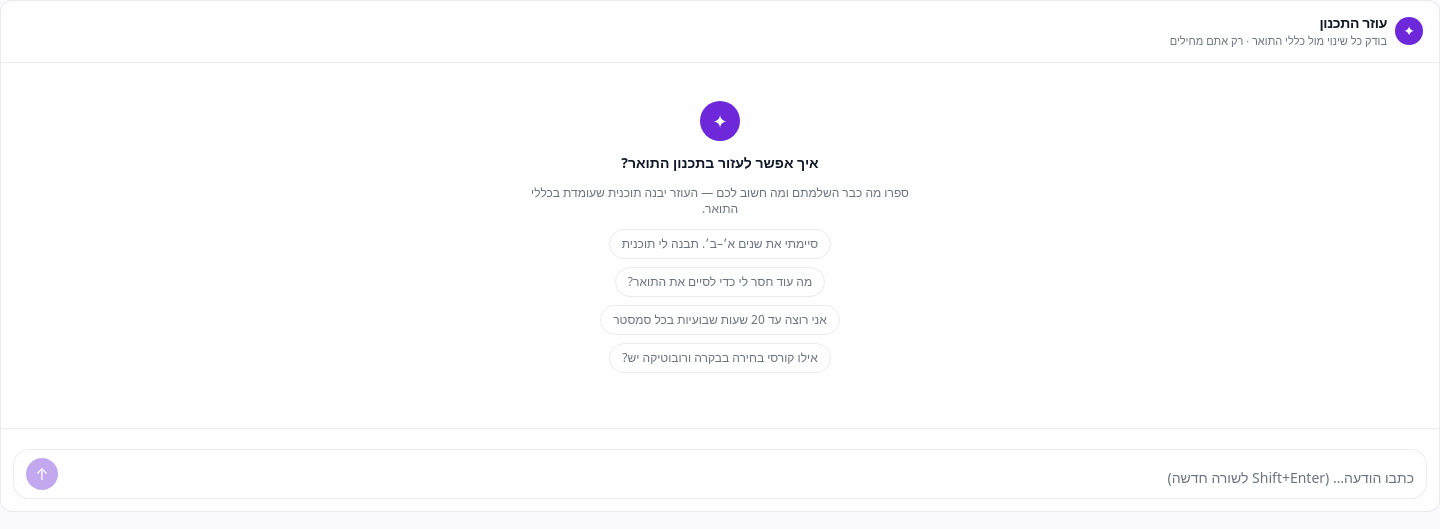
renders known course ids in assistant replies as Hebrew names with the id retained
Type "תציע לי סמסטר" into the text box named "הודעה לעוזר האקדמי" at (740, 478), box [66,466,1414,490]
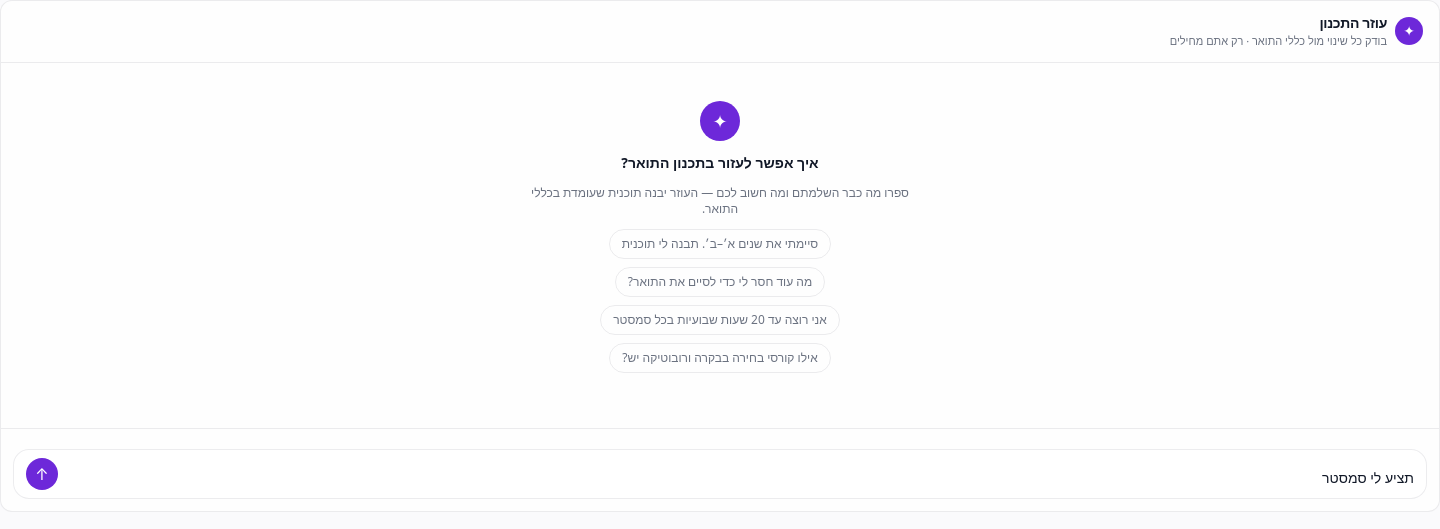
Click the button named "שלח לעוזר" at (42, 474), box [26,458,58,490]
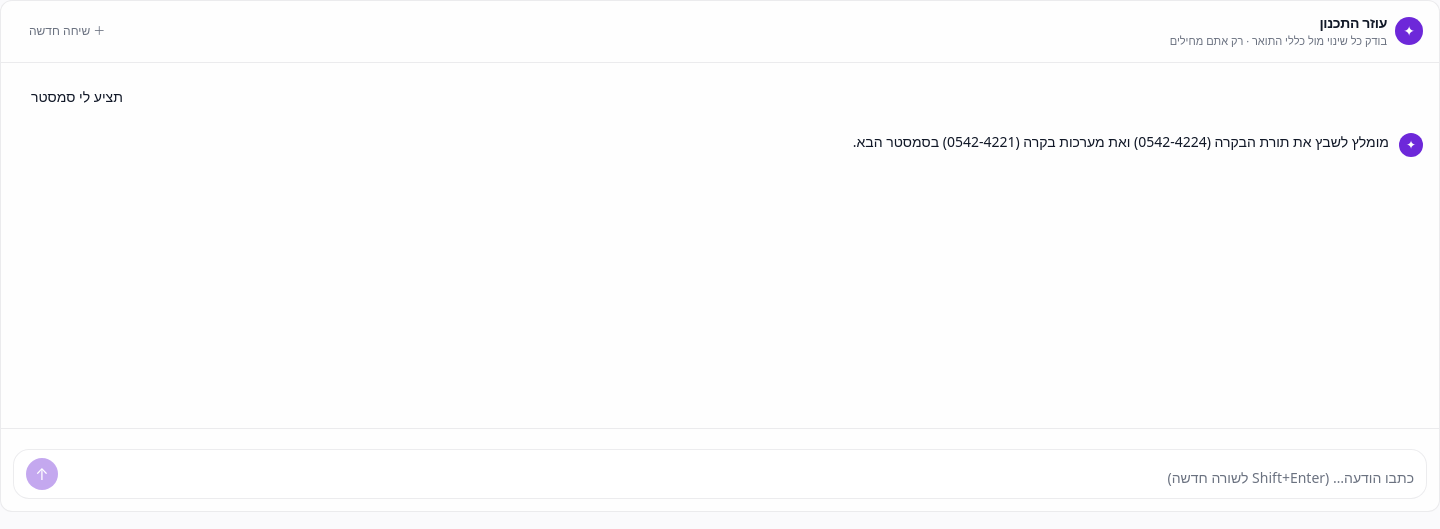
Expected: the text "מומלץ לשבץ" shows "תורת הבקרה (0542-4224)", [853,132,1389,150]
Expected: the text "מומלץ לשבץ" shows "מערכות בקרה (0542-4221)", [853,132,1389,150]
